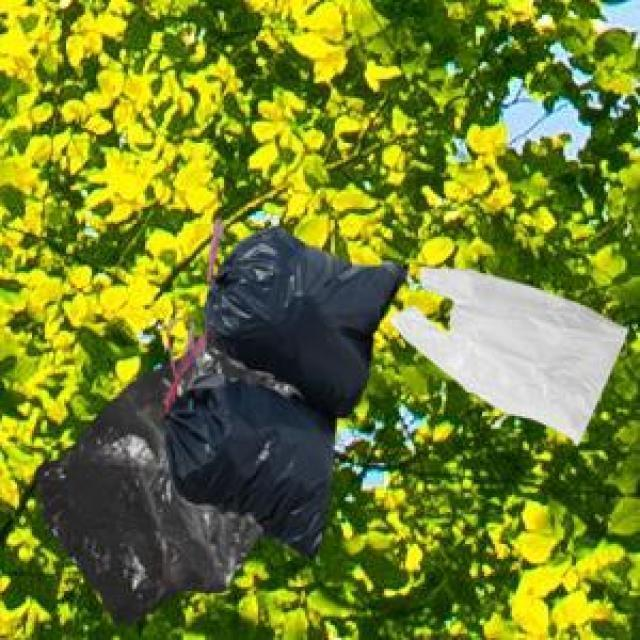miscellaneous trash: (160, 216, 403, 557)
